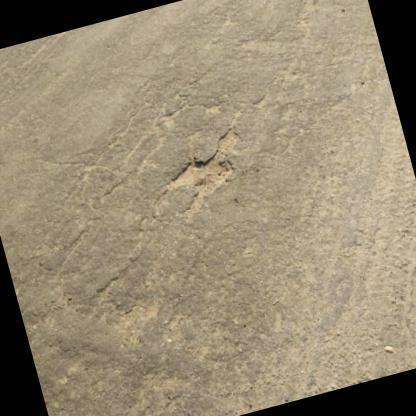pothole: (164, 124, 247, 202), (88, 284, 162, 344)
